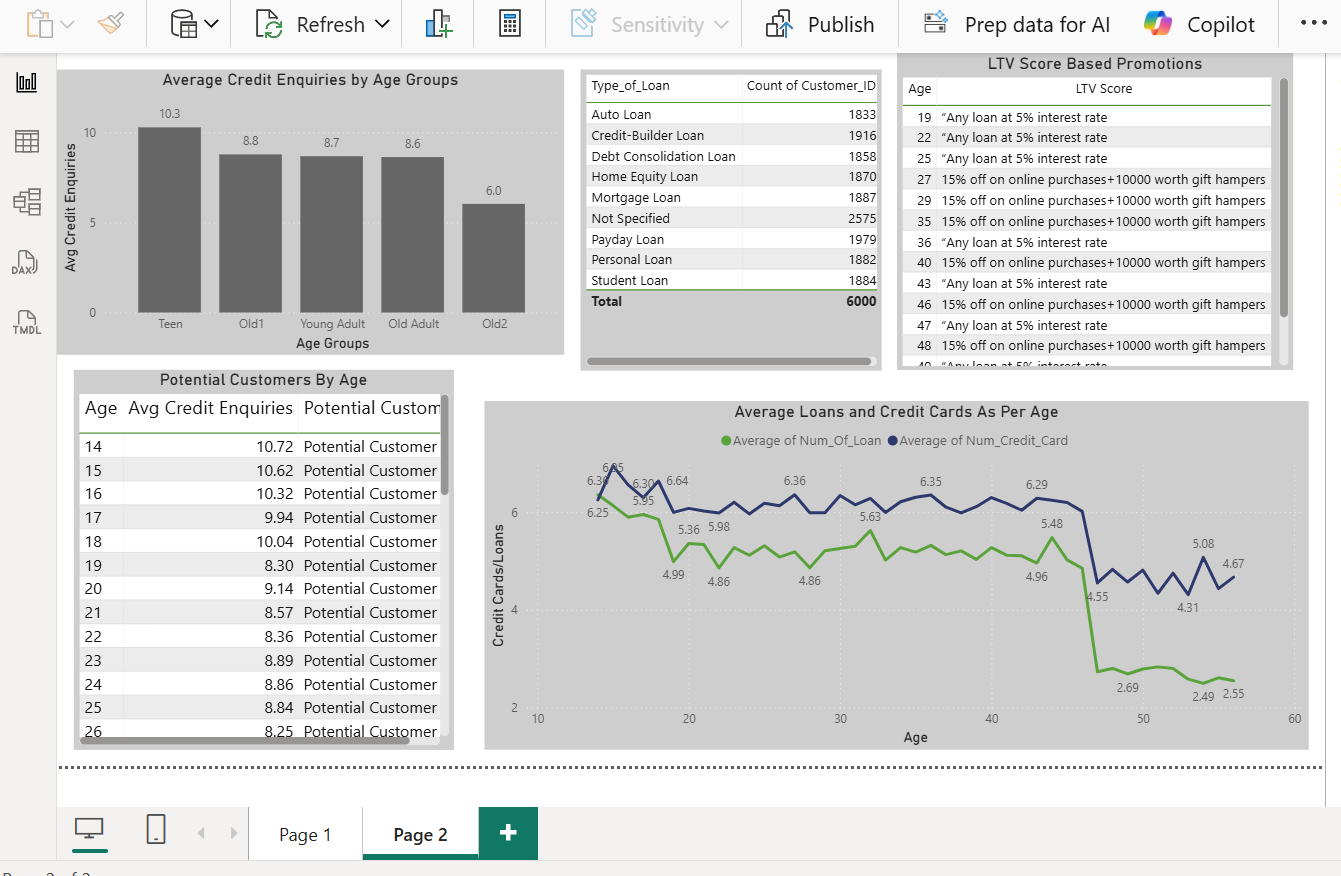

The dashboard page shown, as its layout file describes it:
{"tool":"powerbi","page":{"name":"Page 2","canvas":[1280,720],"ordinal":1},"visuals":[{"type":"clusteredColumnChart","title":"Average Credit Enquiries by Age Groups","fields":{"Category":["Combined_df.Age Groups"],"Y":["Combined_df.Avg Credit Enquiries"]},"box":[0,16,512,288],"z":0},{"type":"tableEx","title":"Potential Customers By Age","fields":{"Values":["Combined_df.Age","Combined_df.Avg Credit Enquiries","Combined_df.Potential Customers"]},"box":[16,320,384,384],"z":1000},{"type":"lineChart","title":"Average Loans and Credit Cards As Per Age","fields":{"Y":["Avg(Combined_df.Num_Of_Loan)","Avg(Combined_df.Num_Credit_Card)"],"Category":["Combined_df.Age"]},"box":[432,352,832,352],"z":2000},{"type":"tableEx","title":"LTV Score Based Promotions","fields":{"Values":["Combined_df.Age","Combined_df.LTV Score"]},"box":[848,0,400,320],"z":3000},{"type":"tableEx","fields":{"Values":["Combined_df.Type_of_Loan","Combined_df.Customer_ID"]},"box":[528,16,304,304],"z":4000}]}

Visuals, with their boxes on the page's 1280x720 design canvas (x1, y1, x2, y2). These are canvas units, not pixel positions in the 1341x876 screenshot, which may show the page scaled, cropped or inside an application window:
"Average Credit Enquiries by Age Groups" clusteredColumnChart: select_region(0, 16, 512, 304)
"Potential Customers By Age" tableEx: select_region(16, 320, 400, 704)
"Average Loans and Credit Cards As Per Age" lineChart: select_region(432, 352, 1264, 704)
"LTV Score Based Promotions" tableEx: select_region(848, 0, 1248, 320)
tableEx - Combined_df.Type_of_Loan x Combined_df.Customer_ID: select_region(528, 16, 832, 320)
